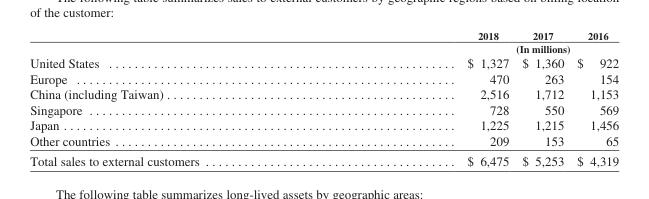table: (29, 29, 618, 168)
table column: (29, 29, 332, 168), (332, 29, 514, 168), (514, 29, 569, 168), (569, 29, 618, 168)
table column header: (29, 29, 618, 54)
table row: (29, 132, 618, 150), (29, 150, 618, 168), (29, 54, 618, 70), (29, 85, 618, 101), (29, 116, 618, 132), (29, 70, 618, 85), (29, 101, 618, 116), (29, 41, 618, 54), (29, 29, 618, 41)
table spanning cell: (332, 41, 618, 54)
